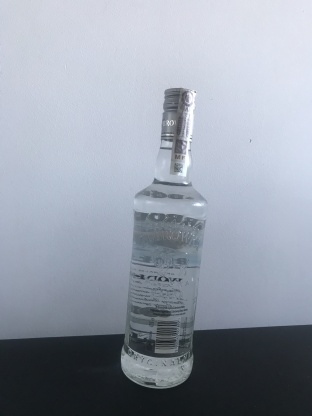nakretka: (159, 84, 198, 145)
